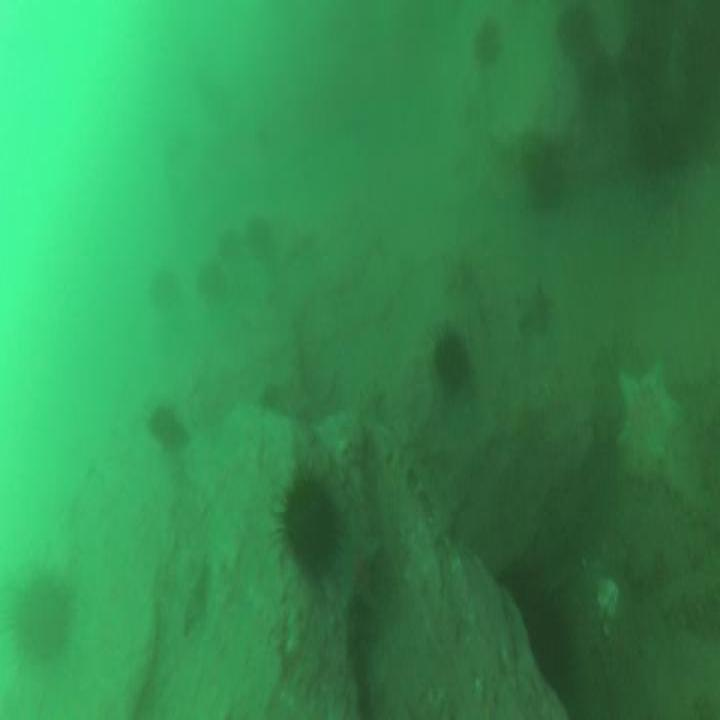echinus: (284, 480, 338, 569), (526, 140, 564, 208), (433, 330, 468, 386), (151, 407, 188, 452)
starfish: (619, 364, 685, 460), (339, 512, 377, 606), (517, 284, 552, 330)
